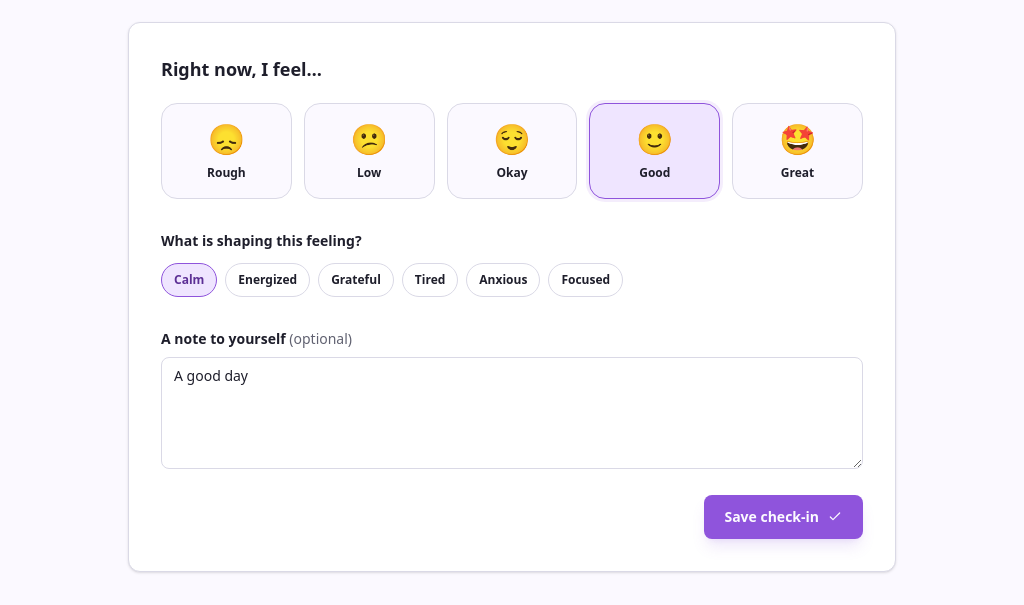
Test: keeps a mood draft when server values differ after a timeout
Replace the text in the text box labelled "A note to yourself (optional)" with "Unconfirmed draft": x=512, y=413 [161,357,863,469]
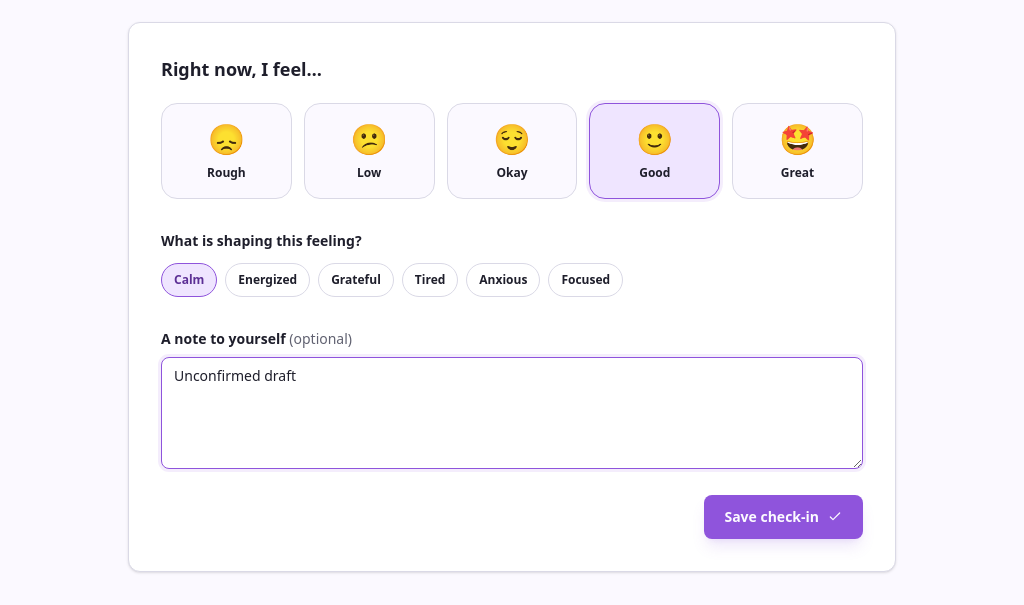
Click the button "Save check-in": x=784, y=517 [704,495,863,539]
(page scrolled)
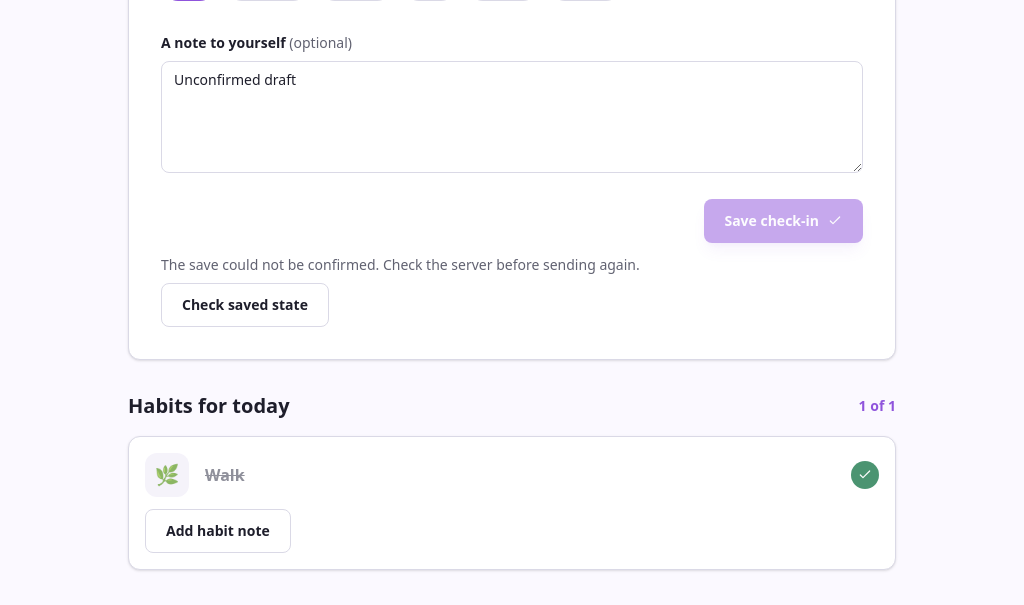
Check: the button "Save check-in" is disabled, box [704,199,863,243]
Click the button "Check saved state": x=245, y=305 [161,283,329,327]
(page scrolled)
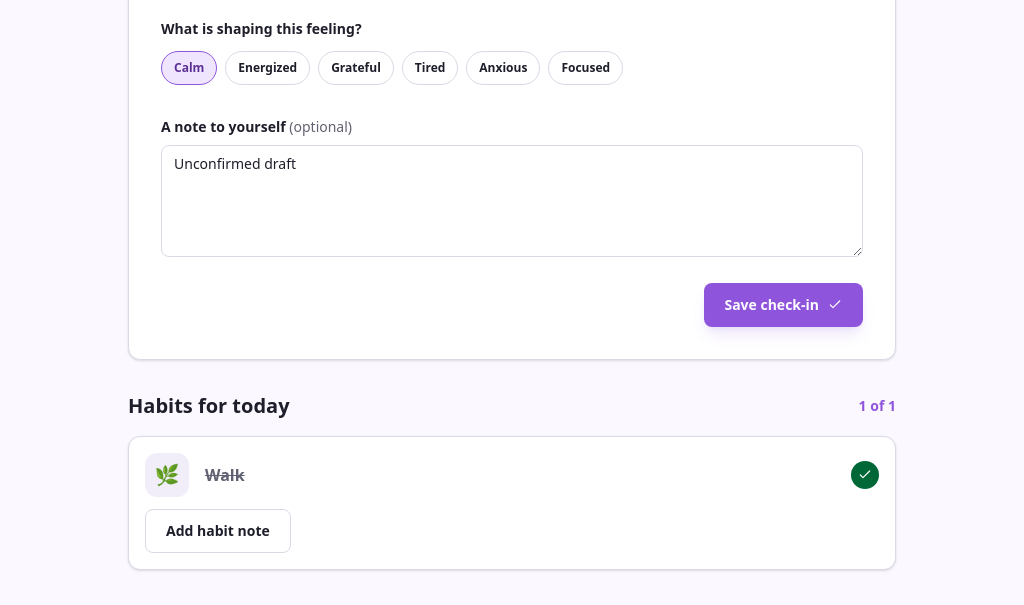
Check: the button "Save check-in" is enabled, box [704,283,863,327]
